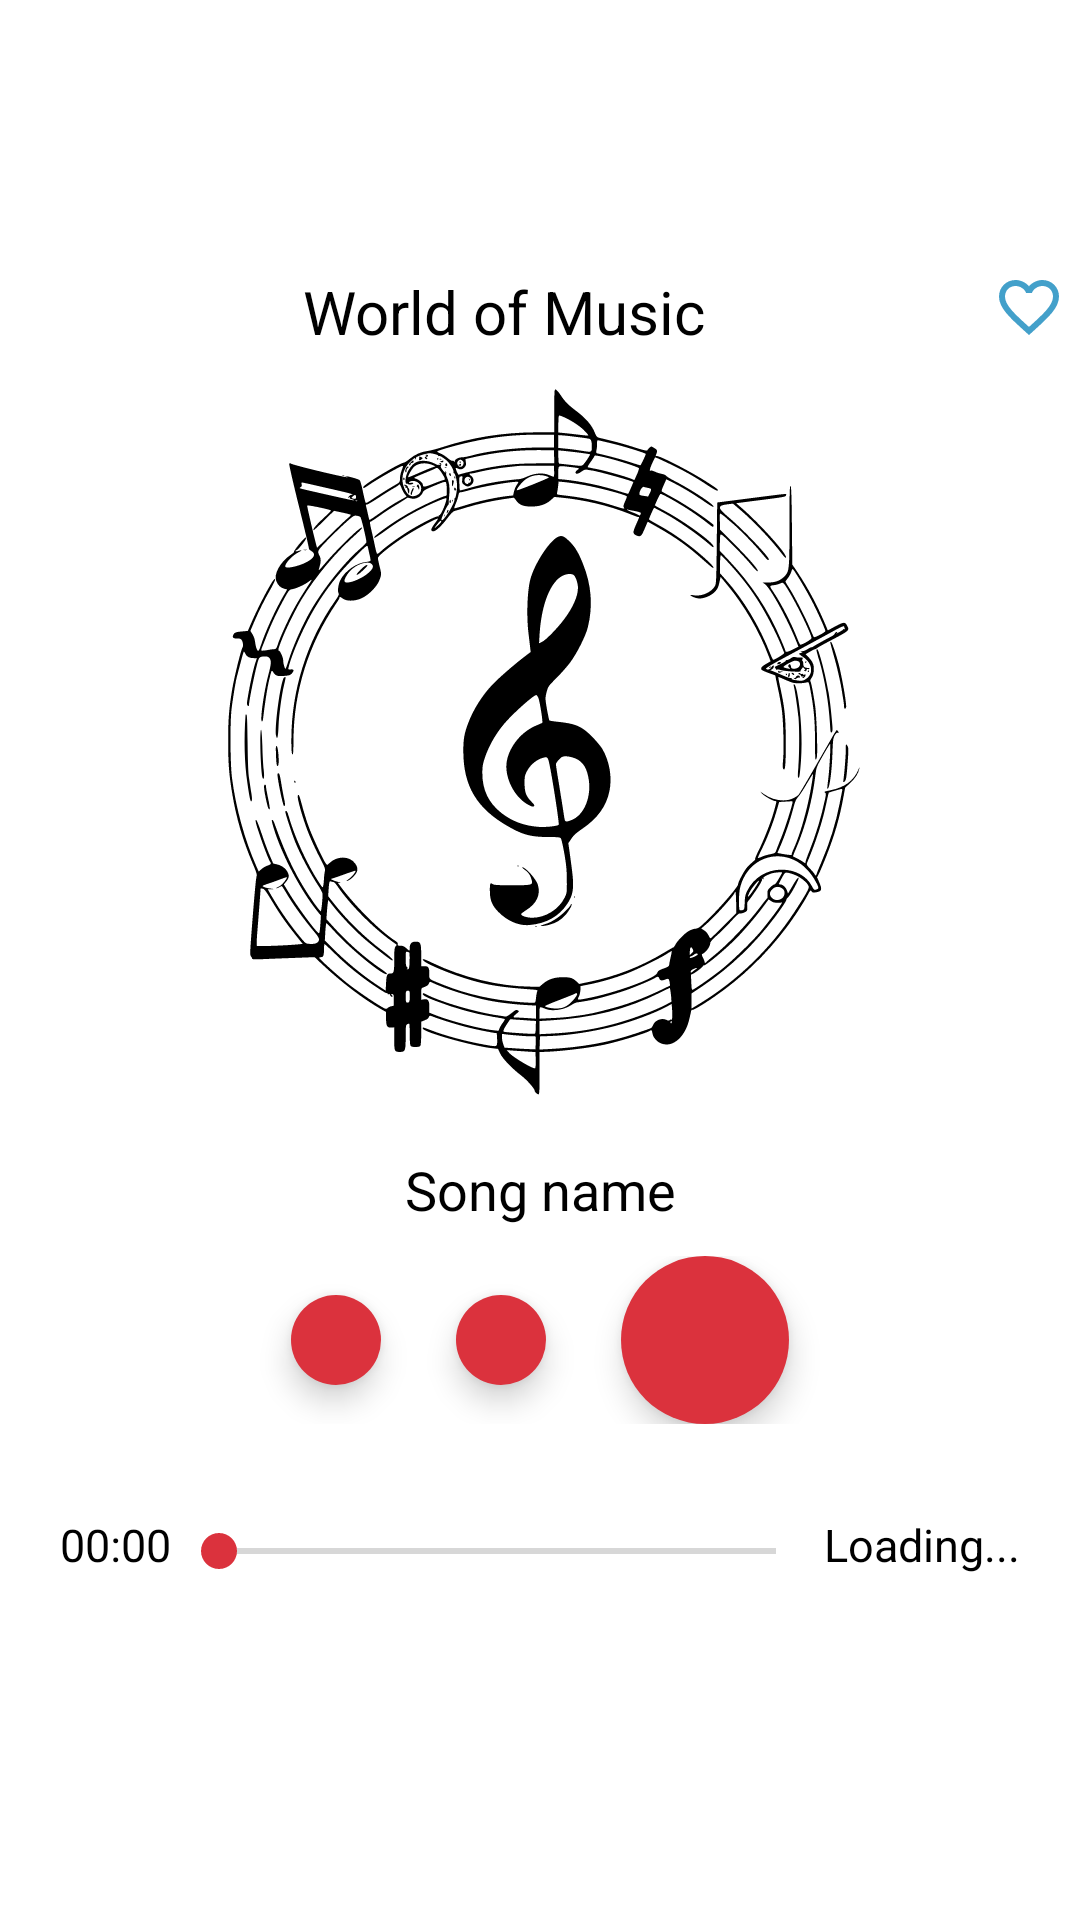

Icon click points for this 1080w x 1920h phone screenshot, format [x,y]:
Favorites: [1029,307]
